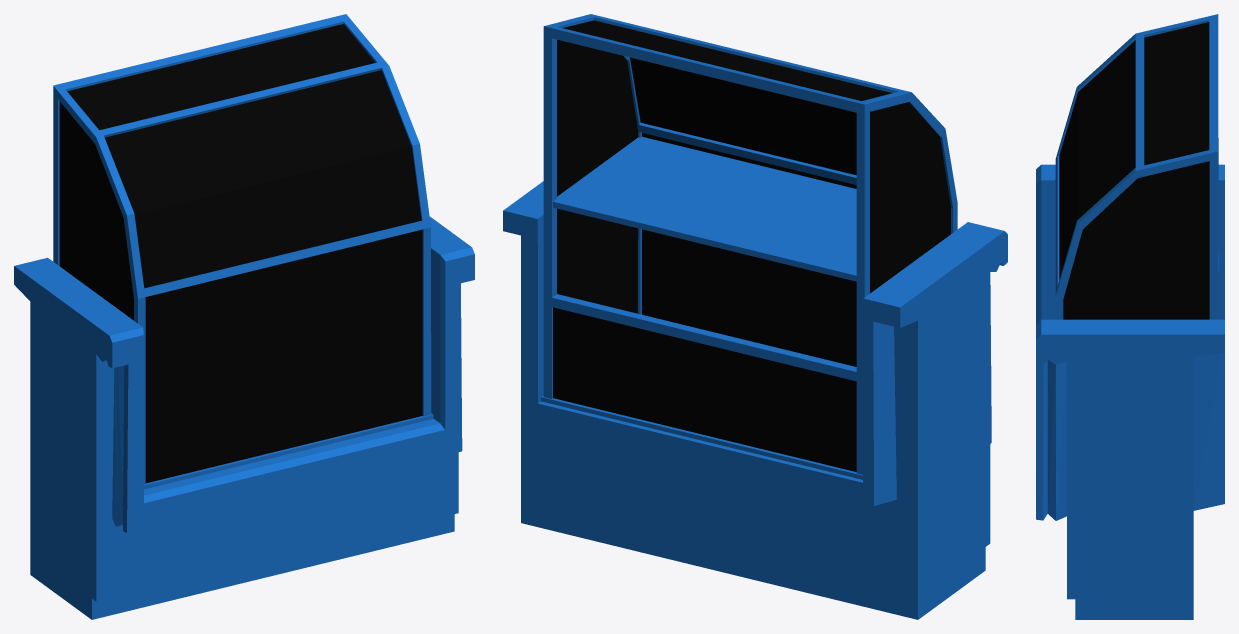
File: SM_counter.fbx
3 views of the same model, side by side, from view 1: azimuth 30°, elevation 25°; view 2: azimuth 150°, elevation 25°; view 3: azimuth 270°, elevation 25° (orthographic). The views are drawn at different scales.
Parts seen in each view (by area): view 1: Cube_6; view 2: Cube_6; view 3: Cube_6.
Boxes of the visible parts, bbox=[...] form: Cube_6: bbox=[14, 14, 474, 619]; Cube_6: bbox=[503, 14, 1007, 619]; Cube_6: bbox=[1036, 14, 1224, 619].
Bounding box in the file's own units: 127 × 158 × 59.78.
